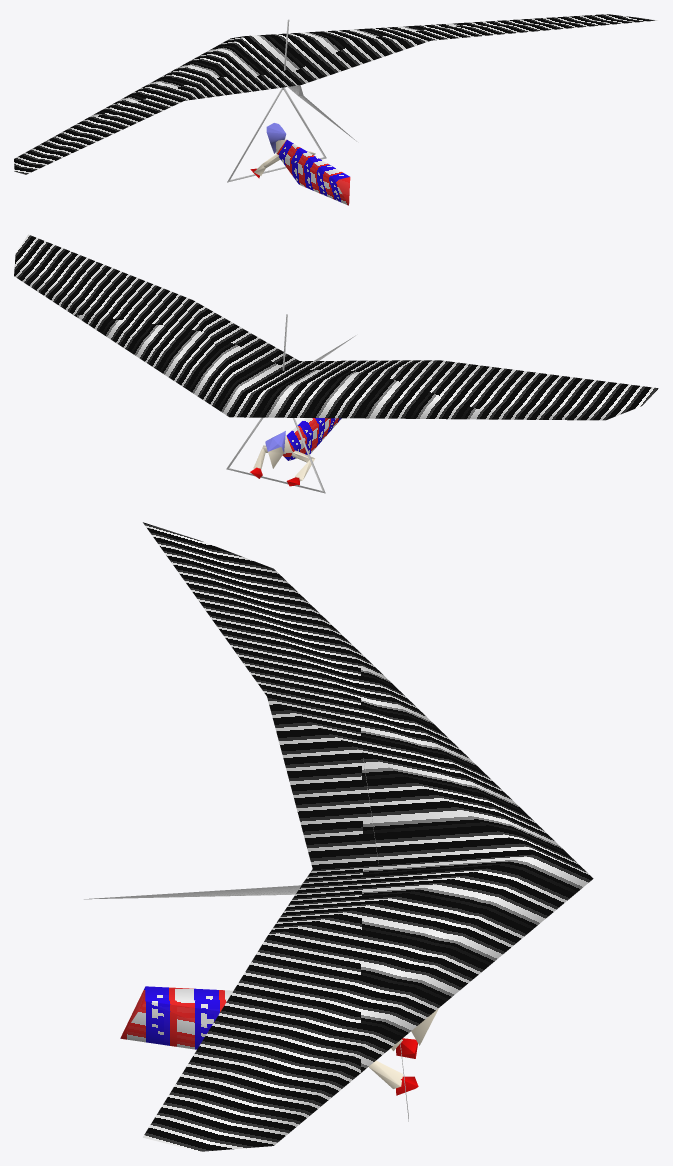
File: uvmd-0274.glb
3 views of the same model, one above another, from view 1: azimuth 30°, elevation 25°; view 2: azimuth 150°, elevation 25°; view 3: azimuth 270°, elevation 25° (orthographic). The views are drawn at different scales.
Parts seen in each view (by area): view 1: uvmd-0274; view 2: uvmd-0274; view 3: uvmd-0274.
Boxes of the visible parts, x1,y1,x2,y2 form: uvmd-0274: (14, 14, 657, 205); uvmd-0274: (14, 234, 658, 493); uvmd-0274: (84, 522, 593, 1151).
Size of the model in its own units: 1498 by 362 by 529.
Materials: 3 (3 with a texture image).
